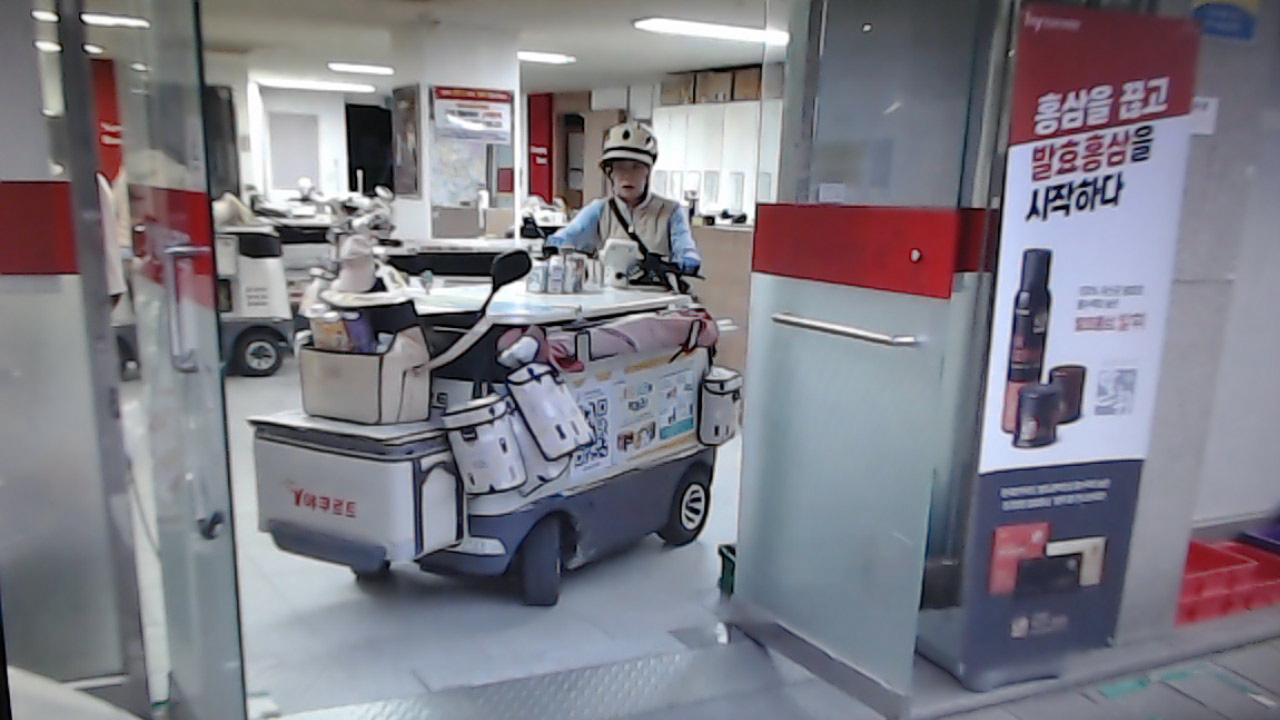Yakurut: (541, 122, 711, 287)
